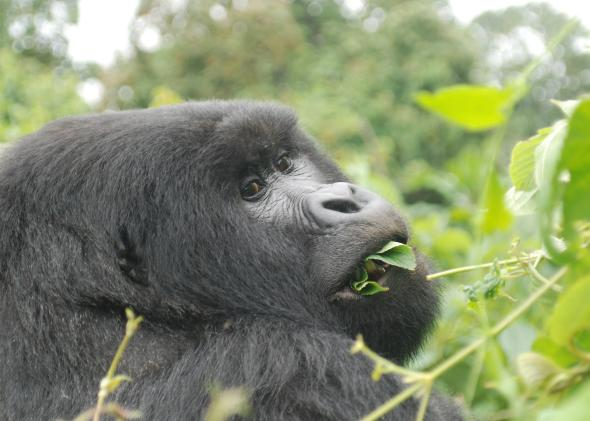Goriila: (22, 41, 466, 421)
